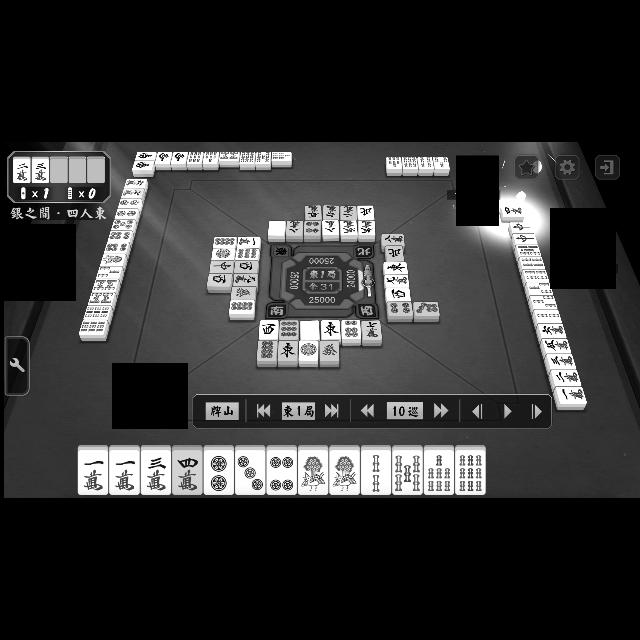1m: (80, 451, 108, 494), (112, 451, 138, 495), (554, 388, 586, 408), (236, 236, 262, 247)
1p: (300, 340, 316, 360), (214, 247, 236, 261)
1s: (298, 450, 328, 494), (330, 451, 358, 495), (300, 450, 326, 494), (101, 255, 127, 265)
2m: (548, 372, 582, 388), (13, 156, 31, 182), (341, 205, 357, 221)
2p: (204, 452, 233, 496), (115, 208, 141, 220), (118, 200, 142, 210)
2s: (362, 450, 392, 496), (531, 310, 563, 324)
3m: (141, 450, 171, 496), (32, 157, 52, 185), (545, 355, 575, 369)
3p: (236, 450, 264, 494)
3s: (527, 296, 557, 310), (96, 266, 122, 280), (522, 283, 552, 295), (434, 157, 450, 175)
4m: (172, 450, 202, 496), (502, 205, 526, 219)
4p: (268, 452, 296, 494), (388, 302, 412, 320), (304, 222, 322, 240), (303, 220, 321, 238)
4s: (416, 156, 434, 176), (520, 269, 548, 281), (520, 257, 544, 269)
5m: (540, 338, 572, 354), (338, 220, 358, 240), (358, 220, 376, 240), (306, 204, 322, 220)
5p: (112, 220, 136, 230)
5s: (392, 452, 422, 496), (513, 244, 543, 256), (256, 151, 272, 171)
6m: (536, 323, 566, 339), (124, 178, 150, 190), (324, 204, 340, 220)
6p: (342, 320, 360, 340), (108, 230, 132, 243), (106, 243, 130, 254)
6s: (402, 155, 418, 177), (240, 151, 256, 169)
7m: (362, 320, 382, 340), (122, 187, 144, 199)
7p: (411, 300, 439, 320)
7s: (424, 451, 454, 495), (204, 150, 218, 170), (271, 150, 291, 164), (386, 158, 402, 175)
8m: (286, 219, 304, 241), (322, 220, 338, 240), (380, 234, 404, 246)
8p: (228, 300, 256, 316), (258, 340, 276, 362), (214, 236, 236, 247)
8s: (218, 150, 240, 166), (90, 291, 114, 305), (94, 280, 118, 292)
9m: (234, 272, 260, 286), (384, 274, 410, 286)
9p: (281, 320, 299, 340), (236, 247, 260, 261)
9s: (456, 450, 484, 496), (81, 322, 105, 341), (85, 306, 109, 320), (190, 150, 202, 172)
chun: (508, 222, 536, 234), (512, 234, 538, 246), (208, 262, 234, 274)
haku: (268, 220, 286, 242), (301, 321, 319, 341), (320, 340, 338, 360)
hatsu: (230, 287, 256, 301)
nan: (156, 150, 172, 168), (136, 150, 158, 162), (132, 162, 154, 174), (174, 152, 186, 170)
pe: (384, 245, 404, 262), (356, 204, 374, 218)
sha: (208, 274, 232, 292), (386, 287, 412, 301), (261, 320, 277, 340), (235, 262, 257, 274)
tou: (322, 320, 340, 340), (278, 342, 296, 362), (382, 261, 408, 273)
